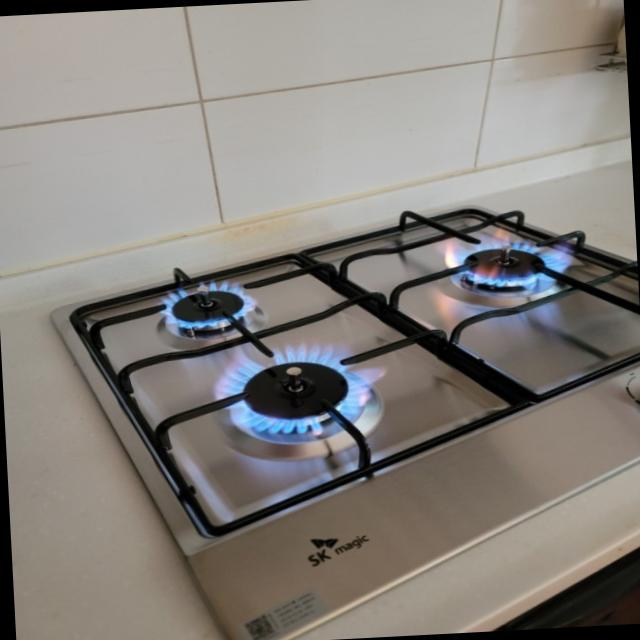knob_ON: (189, 337, 450, 506), (418, 218, 603, 331), (96, 257, 282, 349)
